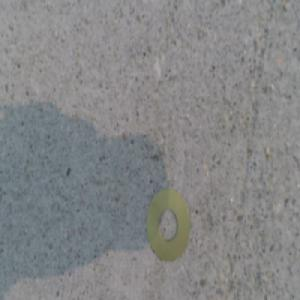Washer: (147, 188, 189, 257)
